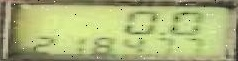-: (152, 27, 167, 35)
0: (117, 8, 157, 34), (165, 9, 203, 35)
1: (69, 35, 86, 52)
2: (26, 34, 54, 53)
4: (117, 36, 147, 52)
7: (175, 35, 205, 54), (150, 35, 175, 52)
8: (86, 35, 114, 52)
